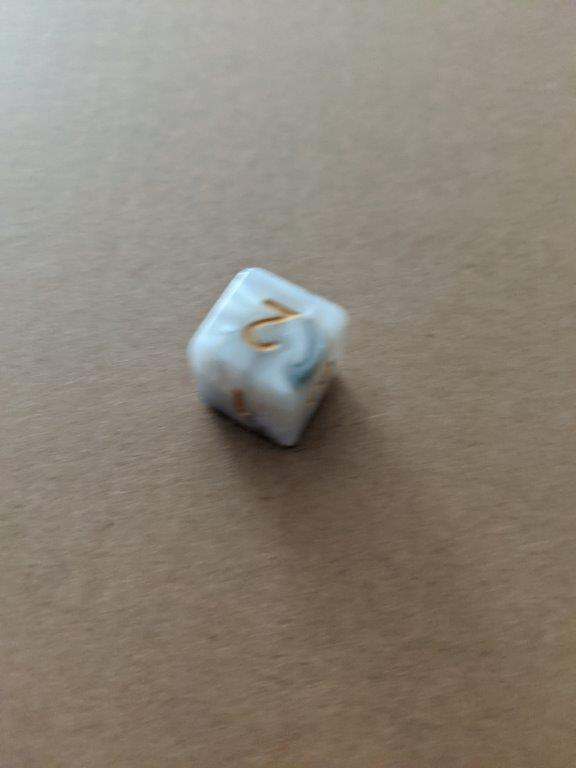d6-2: (188, 266, 350, 447)
